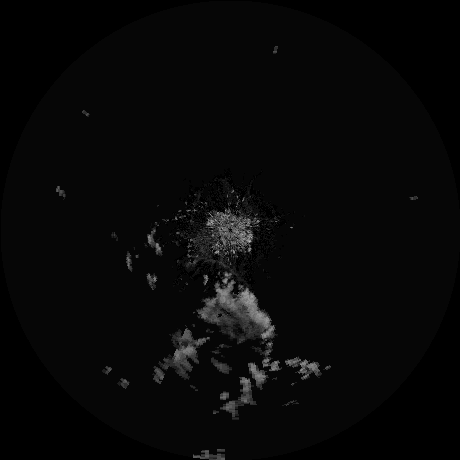frontgust: (199, 259, 242, 282)
